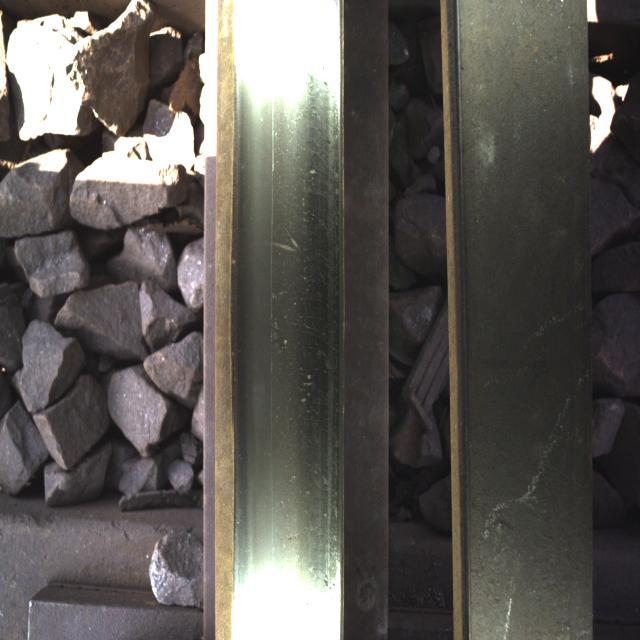normal: (236, 22, 329, 594)
